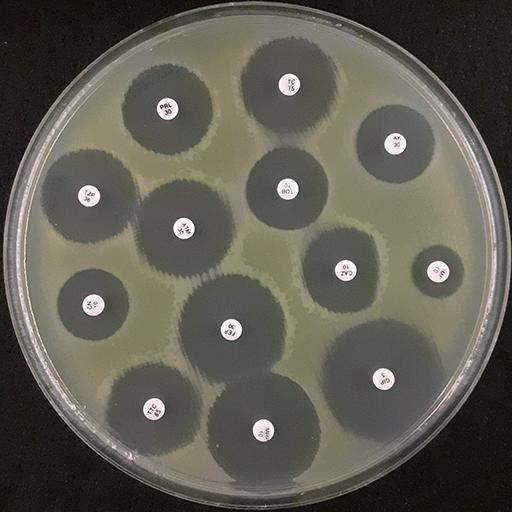disc: (384, 133, 406, 155), (78, 185, 100, 207), (173, 218, 195, 240), (277, 178, 299, 200), (335, 259, 357, 281), (427, 261, 449, 283), (82, 294, 104, 316), (220, 319, 242, 341), (252, 420, 274, 442), (373, 368, 395, 390), (157, 98, 178, 120), (143, 399, 165, 420), (279, 74, 300, 95)
